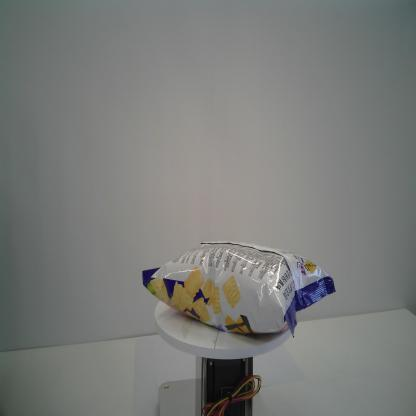Puffed Food: (141, 240, 336, 340)
